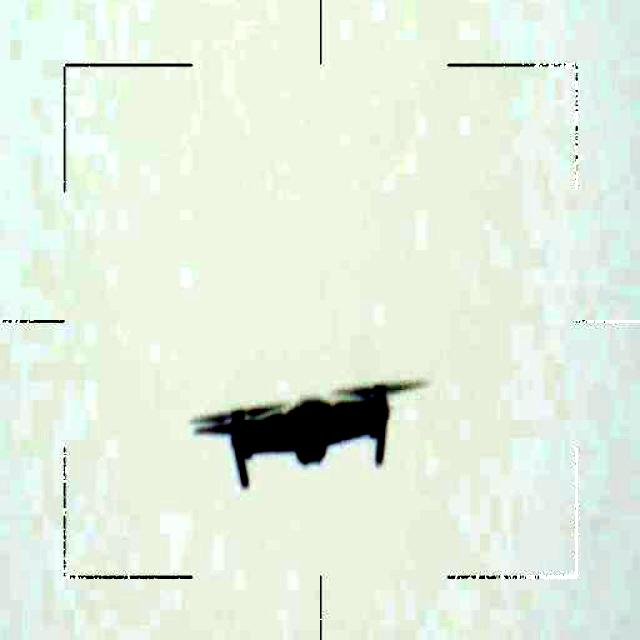bird: (185, 365, 431, 491)
